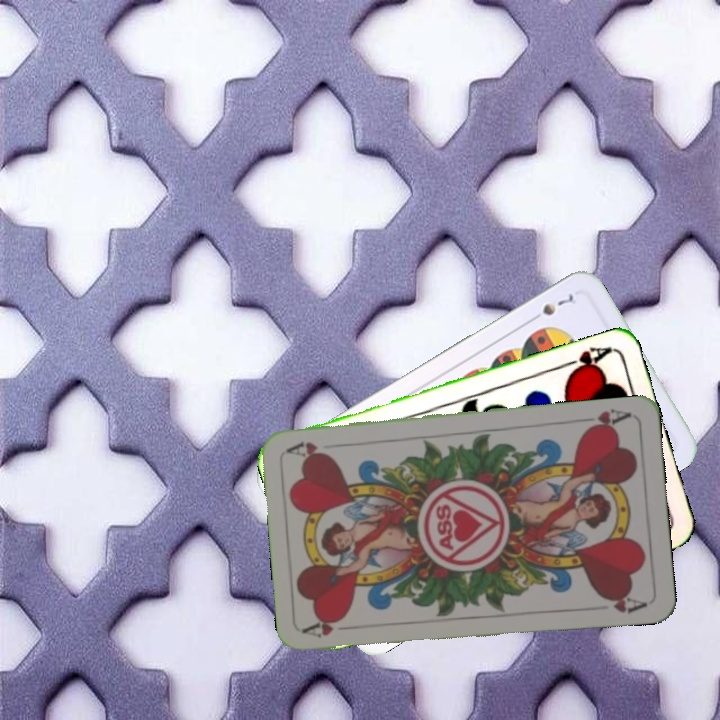HA: (556, 342, 614, 378), (574, 405, 633, 434), (301, 615, 361, 641)
S7: (525, 288, 580, 325)
